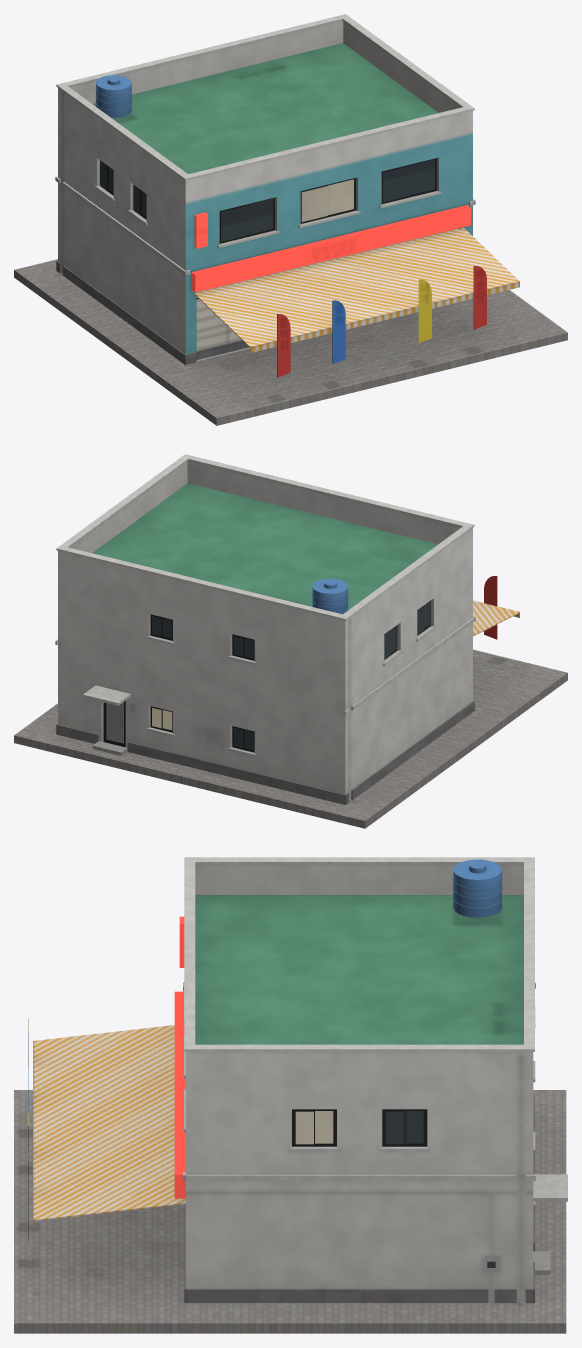
The model's file is IlsanHoetjip03_LOD2.fbx.
3 views of the same model, one above another, from view 1: azimuth 30°, elevation 25°; view 2: azimuth 150°, elevation 25°; view 3: azimuth 270°, elevation 25° (orthographic). The views are drawn at different scales.
Visible parts, largest first — view 1: IlsanHoetjip03_LOD2; view 2: IlsanHoetjip03_LOD2; view 3: IlsanHoetjip03_LOD2.
Boxes of the visible parts, x1,y1,x2,y2 form: IlsanHoetjip03_LOD2: (14, 14, 567, 425); IlsanHoetjip03_LOD2: (14, 454, 567, 828); IlsanHoetjip03_LOD2: (14, 857, 567, 1333).
Size of the model in its own units: 15.9 by 8.9 by 15.95.
1 material, 1 textured.
